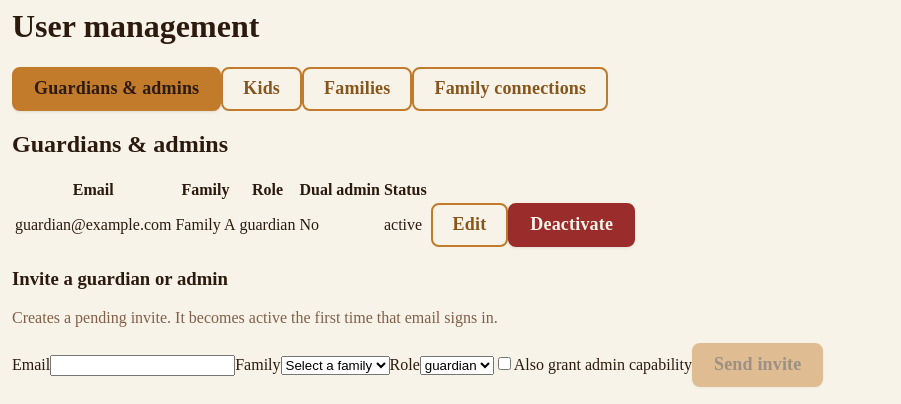
Test case: UserManagementPage › switches to the Family connections tab and shows the directional row
Check: the text "guardian@example.com" is shown, box x1=14 y1=202 x2=172 y2=248
Click the button "Family connections": click(510, 89) x1=412 y1=67 x2=608 y2=111
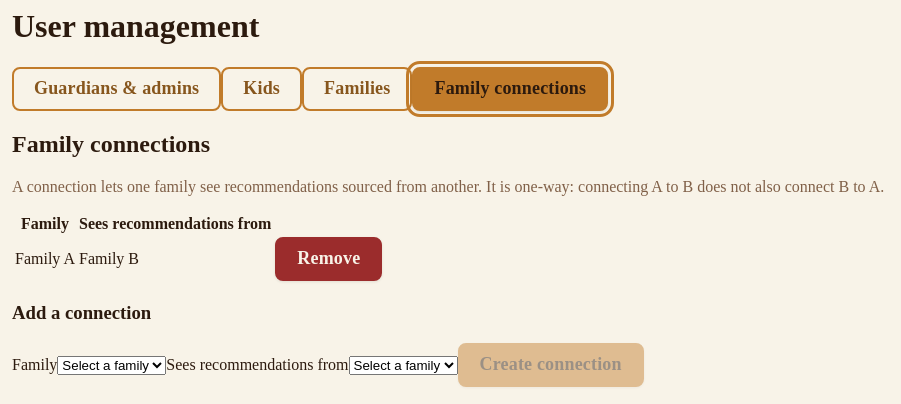
Check: the text "Family A" is shown, box x1=14 y1=236 x2=76 y2=282
Check: the text "Family B" is shown, box x1=78 y1=236 x2=272 y2=282
